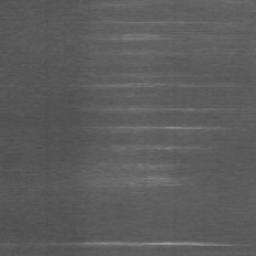Waist folding: (76, 104, 256, 189), (82, 0, 238, 59), (0, 72, 239, 90), (0, 239, 256, 249), (226, 2, 256, 5)
